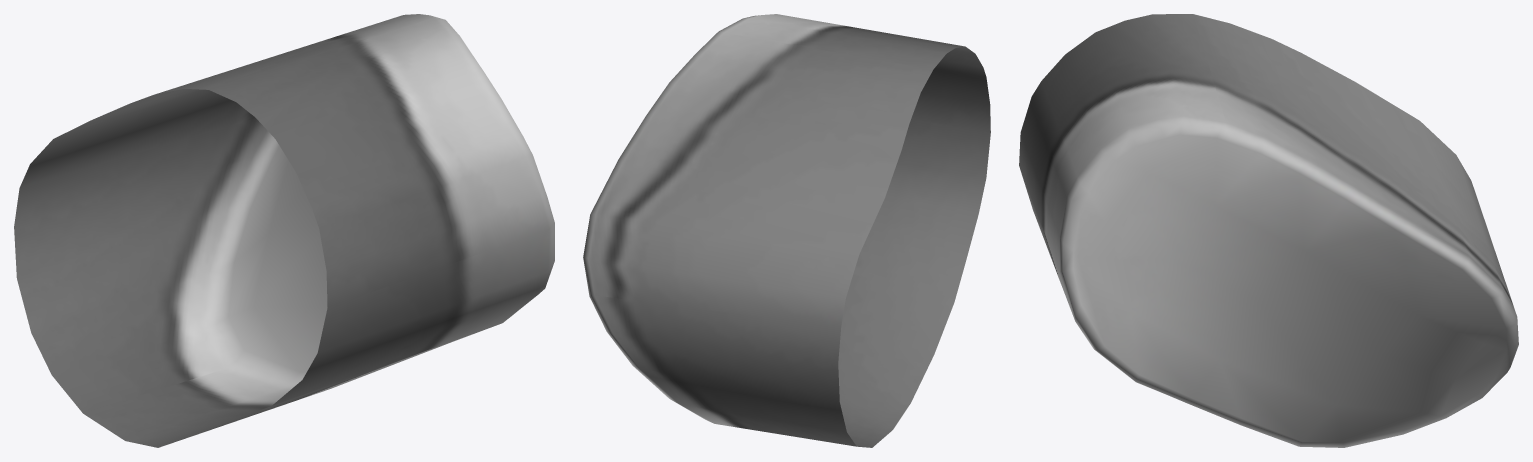
The picture shows the model from 3 angles, left to right: view 1: azimuth 30°, elevation 25°; view 2: azimuth 150°, elevation 25°; view 3: azimuth 270°, elevation 25°; orthographic projection. The views are drawn at different scales.
Size of the model in its own units: 0.016 by 0.0189 by 0.0234.
Materials: 1 (1 with a texture image).
